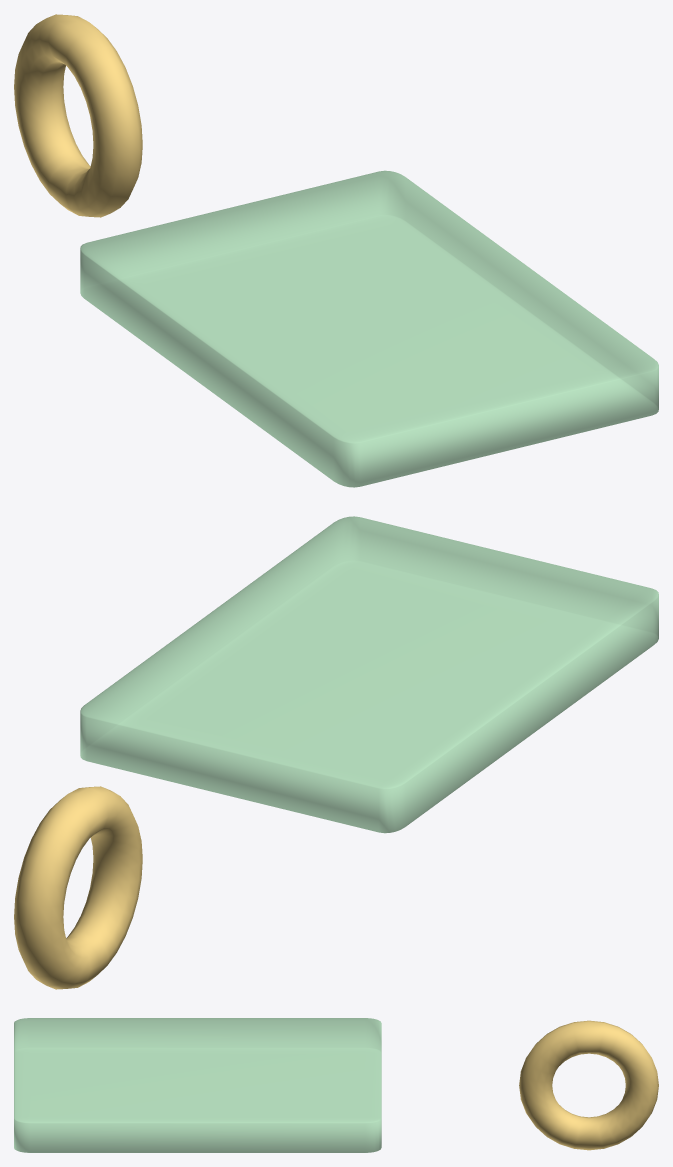
The model's file is yupai.glb.
3 renders of one model, top to bottom at view 1: azimuth 30°, elevation 25°; view 2: azimuth 150°, elevation 25°; view 3: azimuth 270°, elevation 25°, orthographic. The views are drawn at different scales.
Visible parts, largest first — view 1: yupai; view 2: yupai; view 3: yupai.
Part boxes in pixels (x1,y1,x2,y2): yupai: (14,14,658,487); yupai: (14,516,658,989); yupai: (14,1018,658,1152).
Size of the model in its own units: 0.42 by 0.236 by 1.09.
